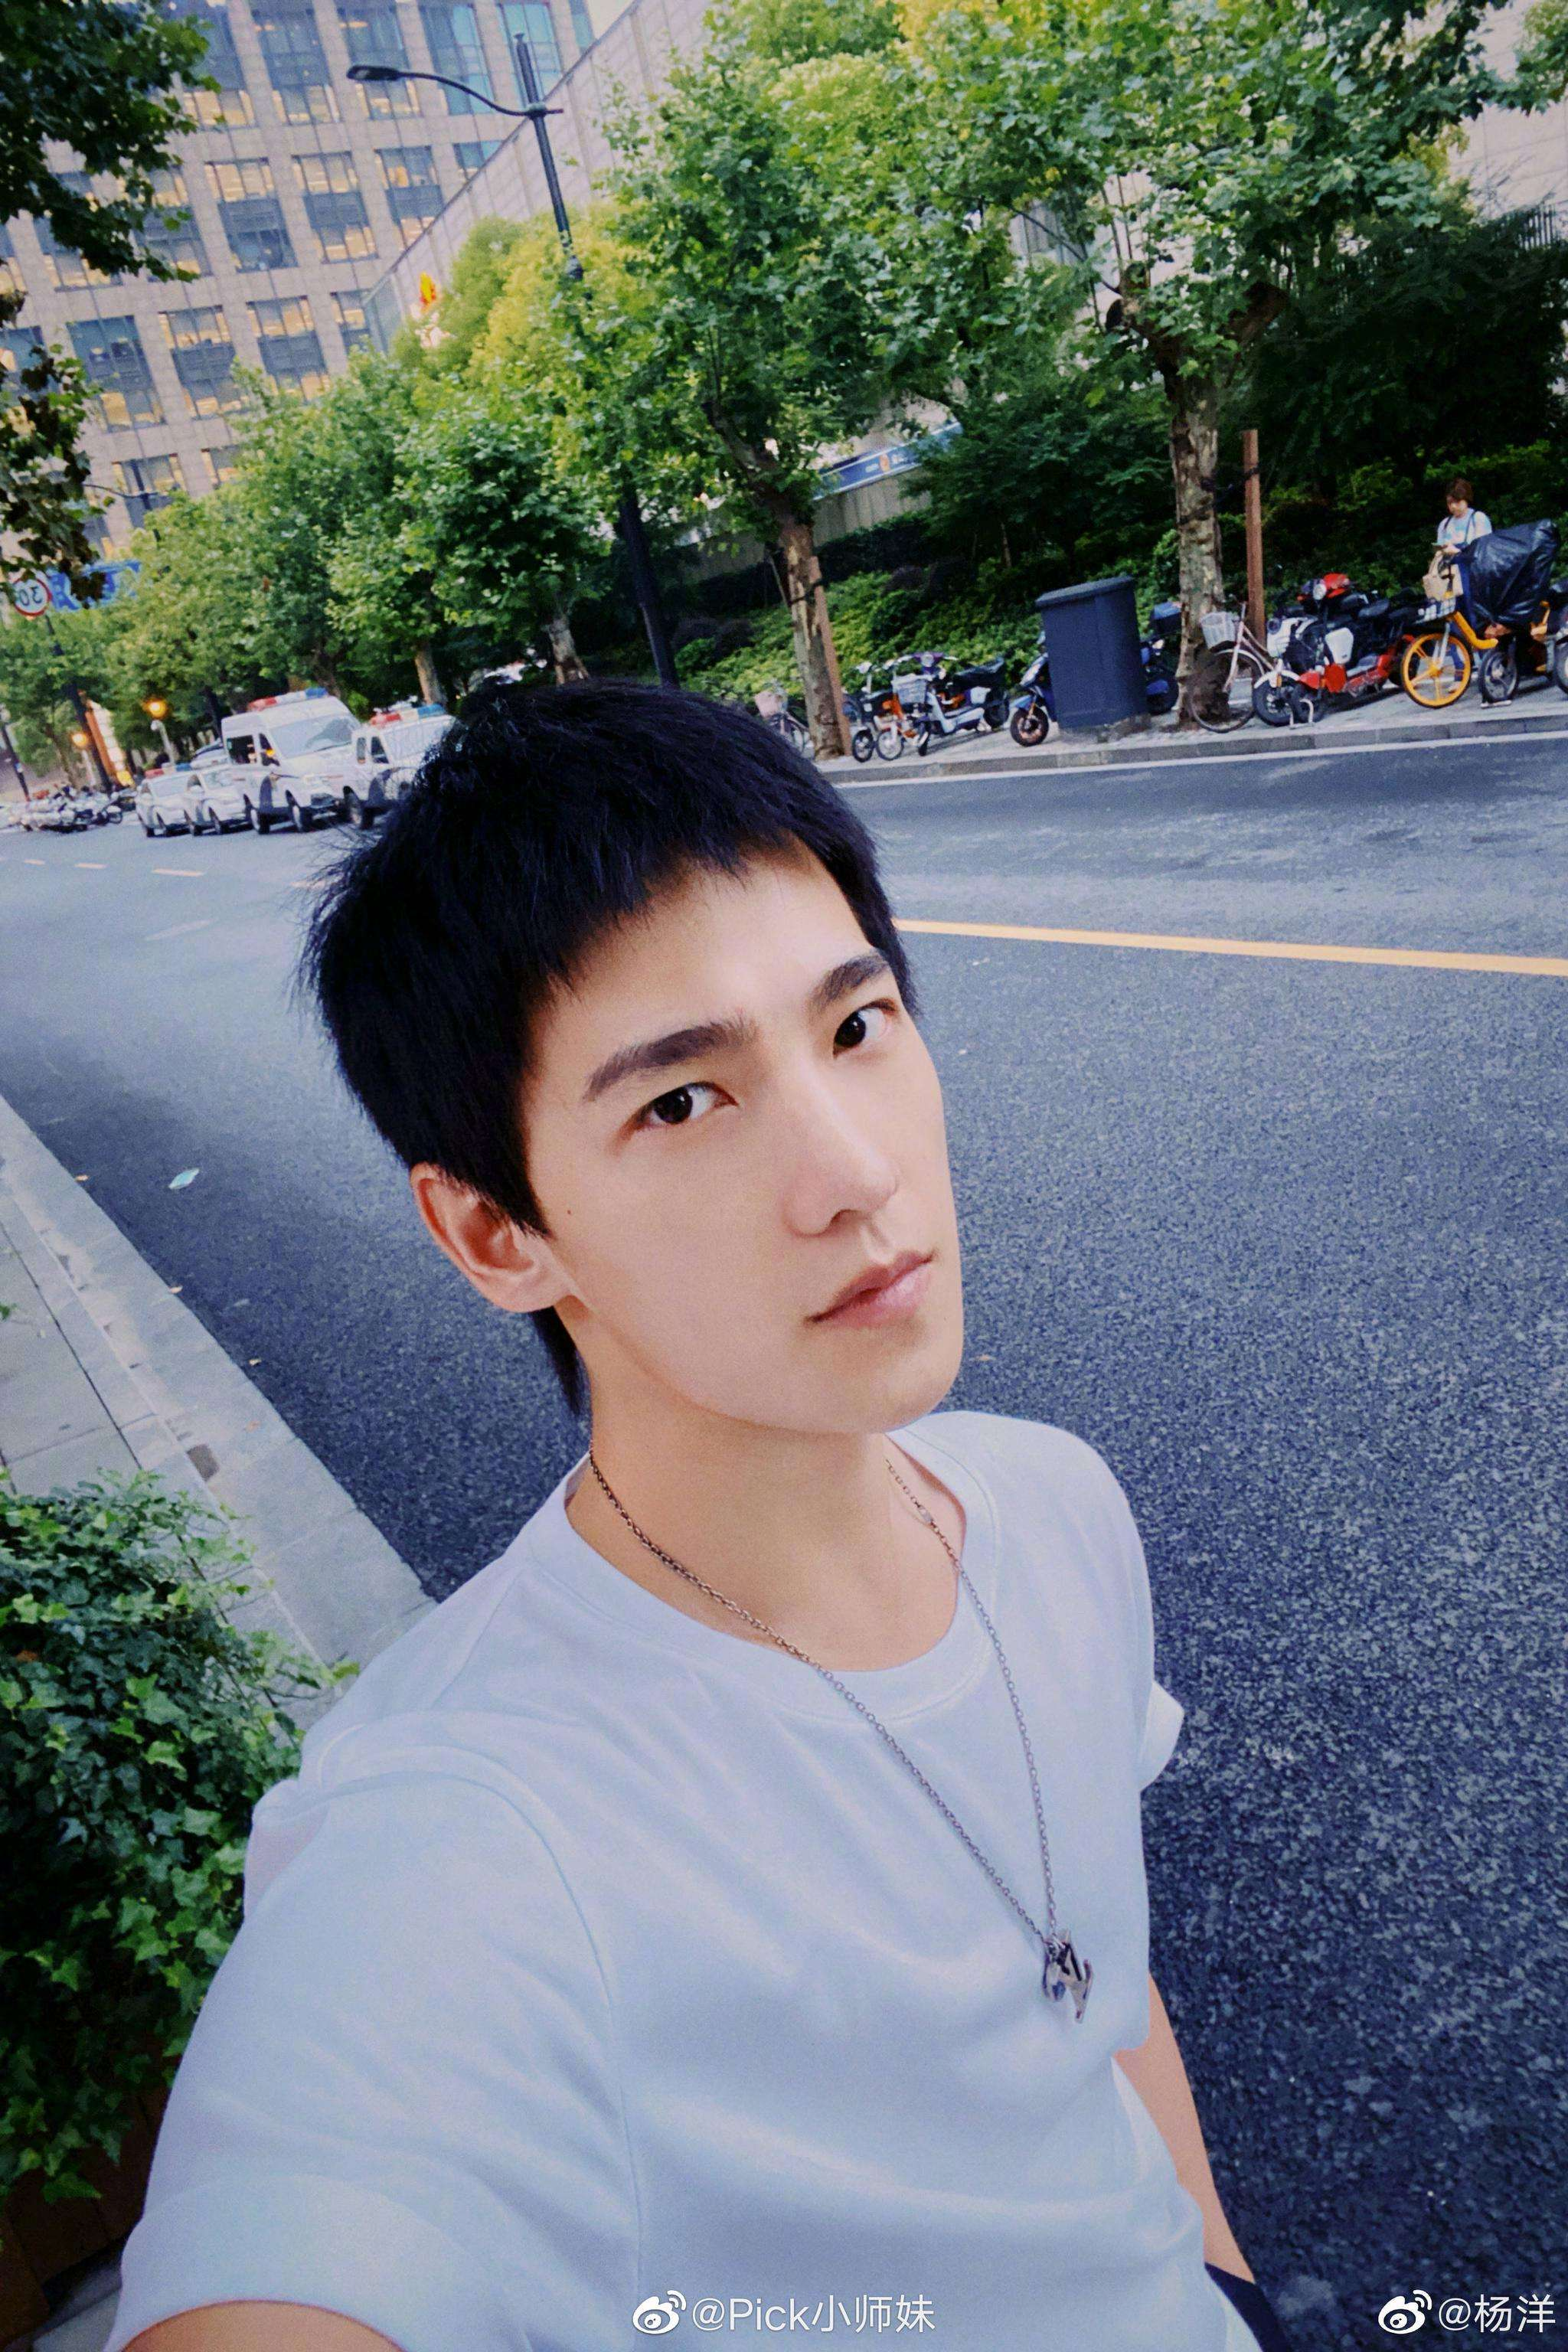person: (157, 624, 1305, 2171)
